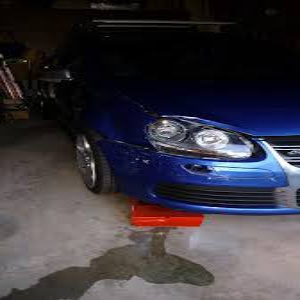bumper_scratch: (112, 146, 228, 188)
